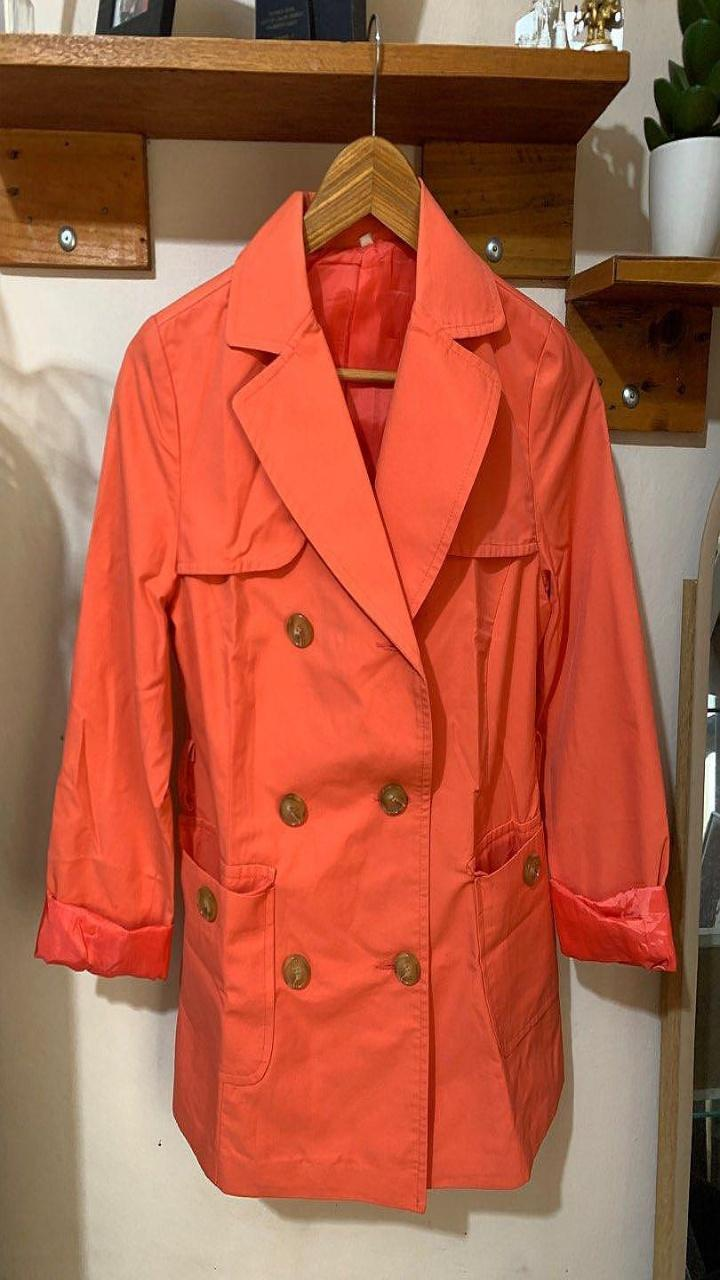Coat: (36, 180, 675, 1211)
